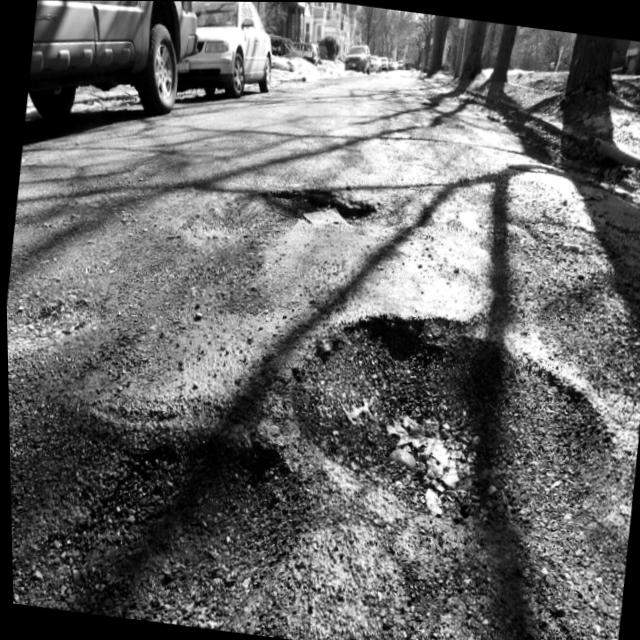pathole: (227, 268, 640, 583), (6, 354, 316, 639), (204, 155, 407, 288)
